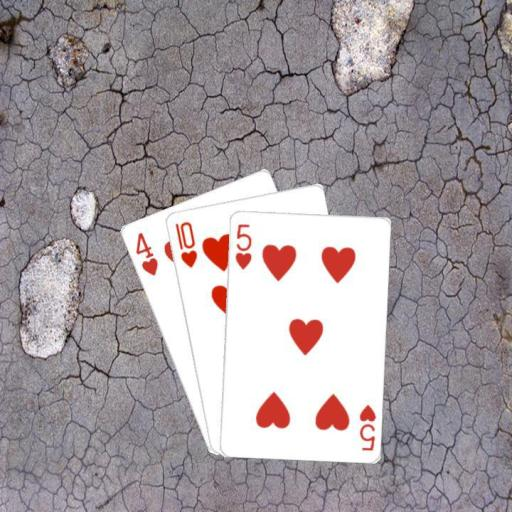10H: (172, 218, 199, 269)
4H: (132, 229, 159, 277)
5H: (355, 401, 377, 452), (232, 220, 252, 271)
